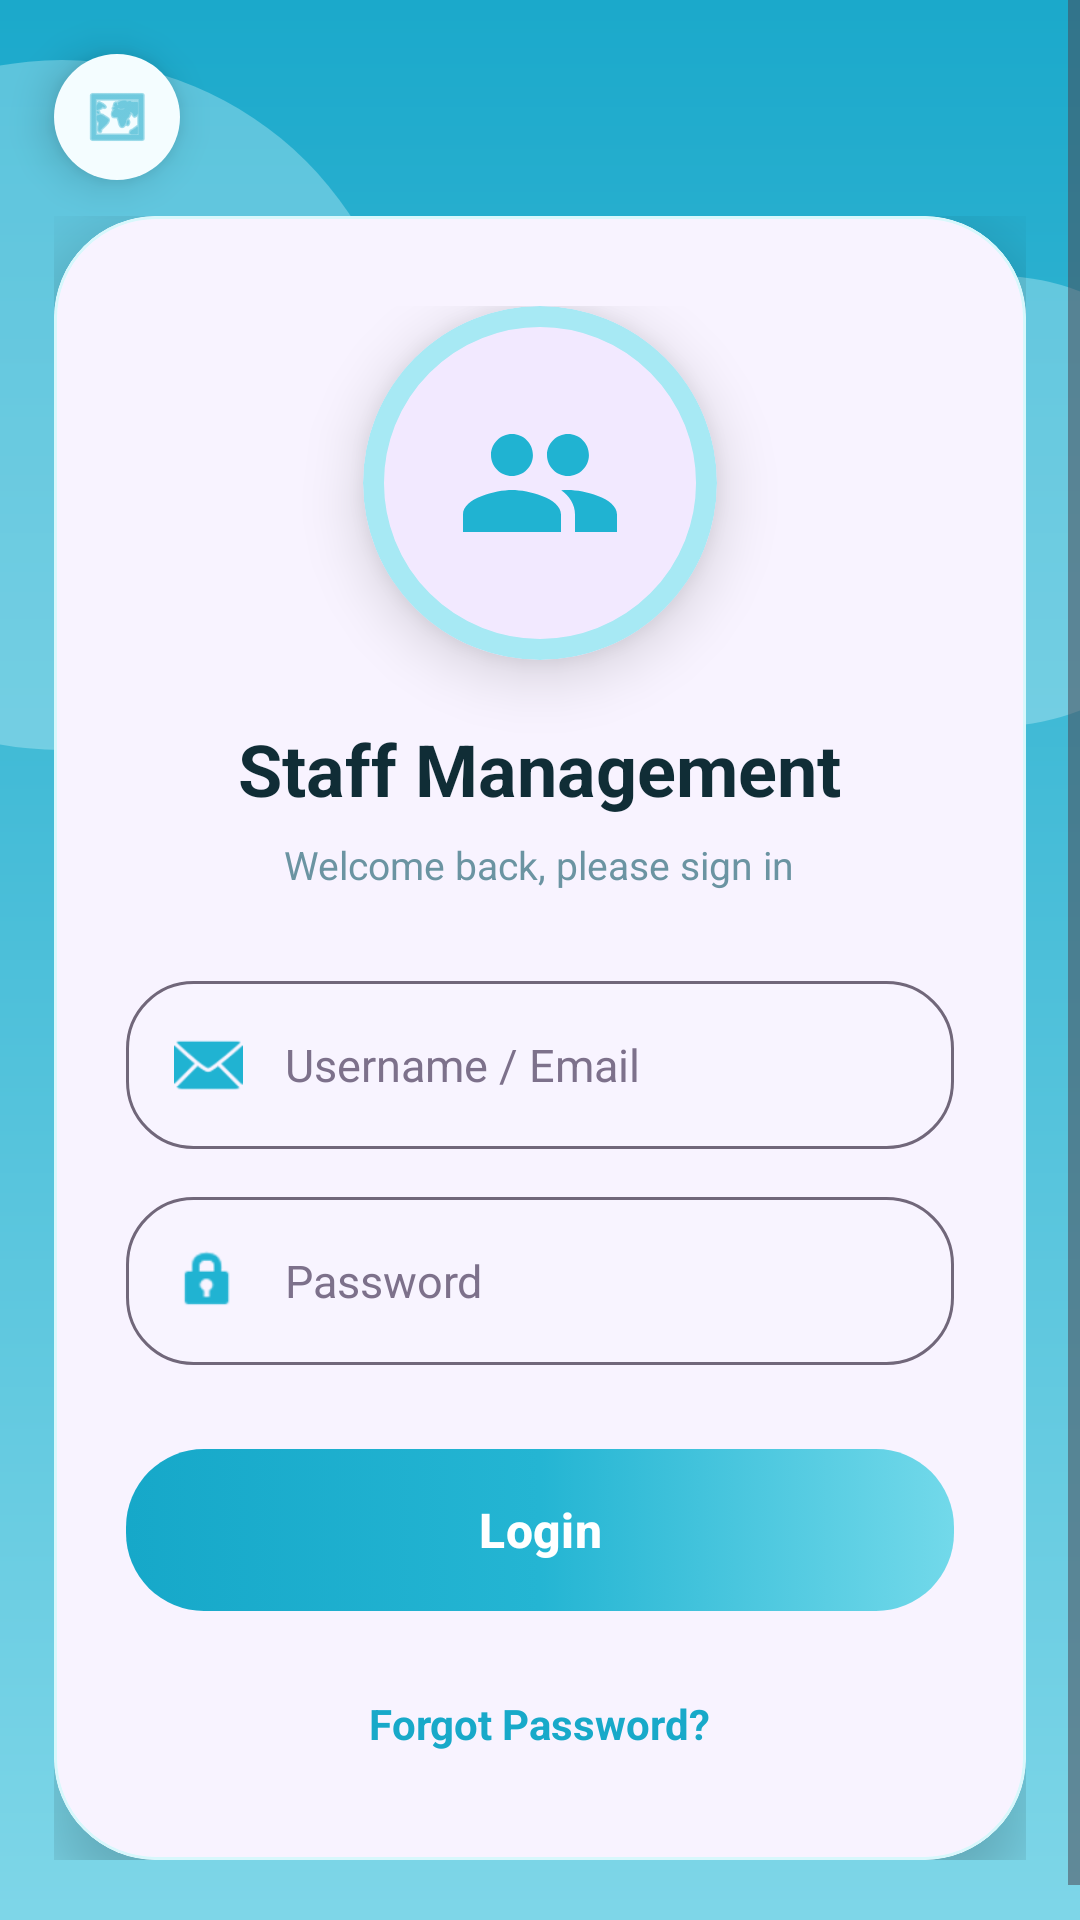

Icon bounding boxes for this 1080 × 1920 phone screenshot, format (x1, y1, x2, y2):
lock idle: (184, 1252, 230, 1305)
mapmode: (54, 54, 180, 180)
people: (363, 306, 717, 660)
